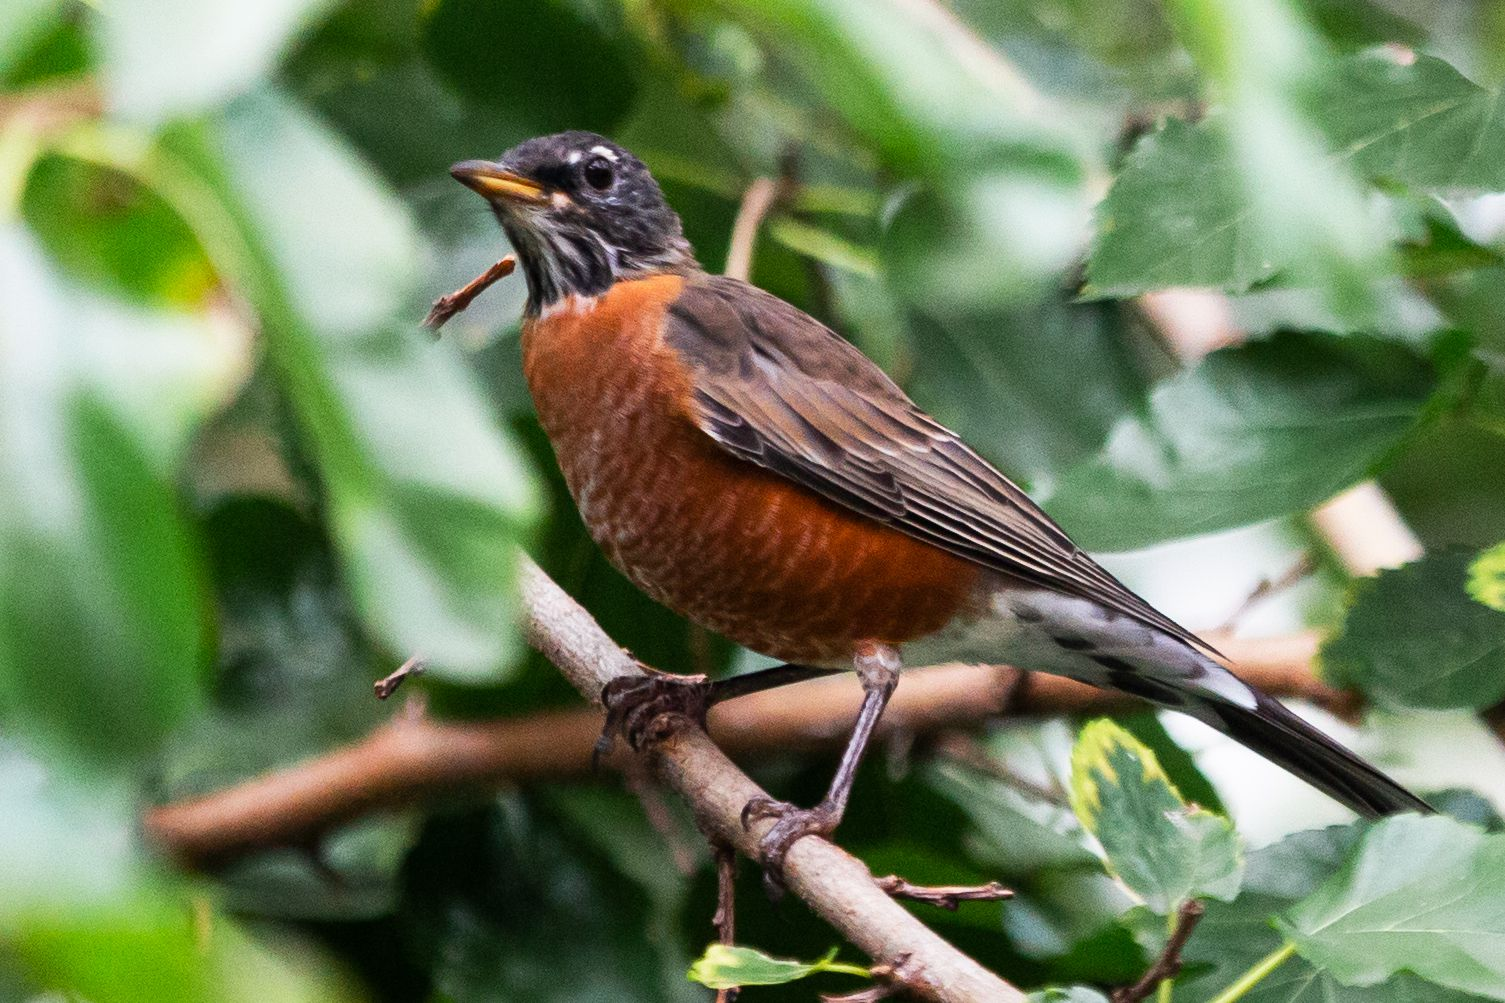bird: (451, 126, 1439, 894)
